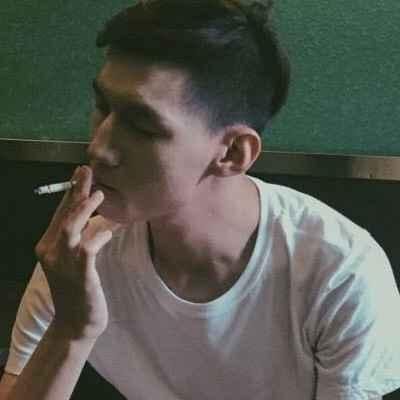smoke: (33, 178, 99, 196)
